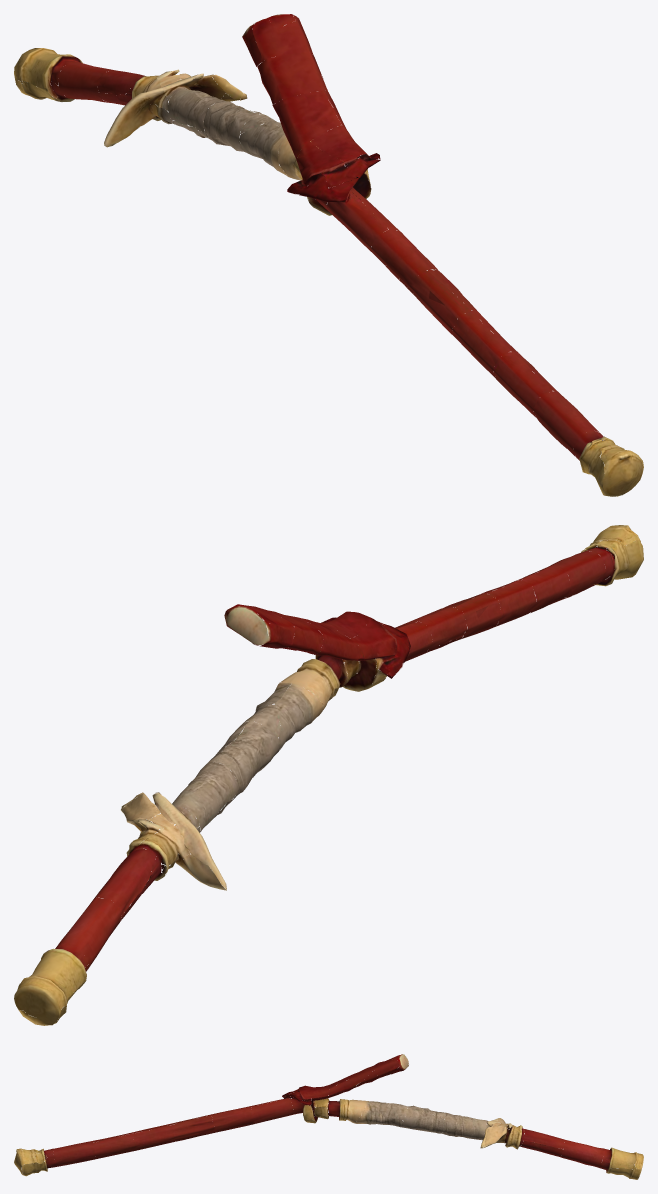
The picture shows the model from 3 angles, top to bottom: view 1: azimuth 30°, elevation 25°; view 2: azimuth 150°, elevation 25°; view 3: azimuth 270°, elevation 25°; orthographic projection. The views are drawn at different scales.
Visible parts, largest first — view 1: W002; view 2: W002; view 3: W002.
Part boxes in pixels (x1,y1,x2,y2): W002: (14,14,643,496); W002: (14,525,643,1025); W002: (14,1054,643,1179).
Size of the model in its own units: 0.1812 by 0.3352 by 1.5.
Materials: 1 (1 with a texture image).
